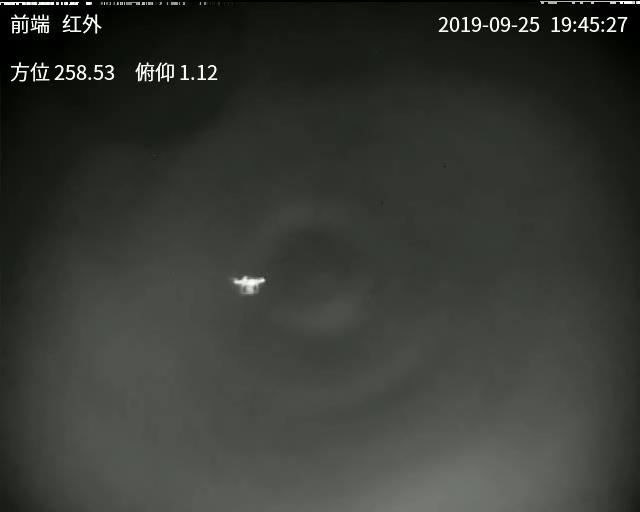uav: (228, 272, 270, 295)
